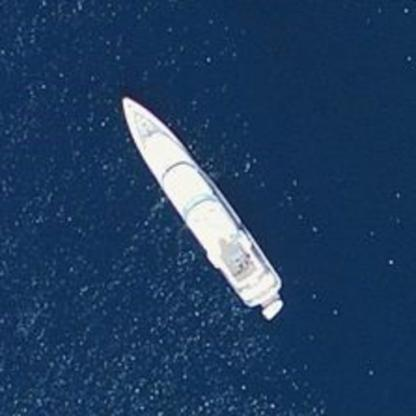ship: (110, 95, 292, 329)
